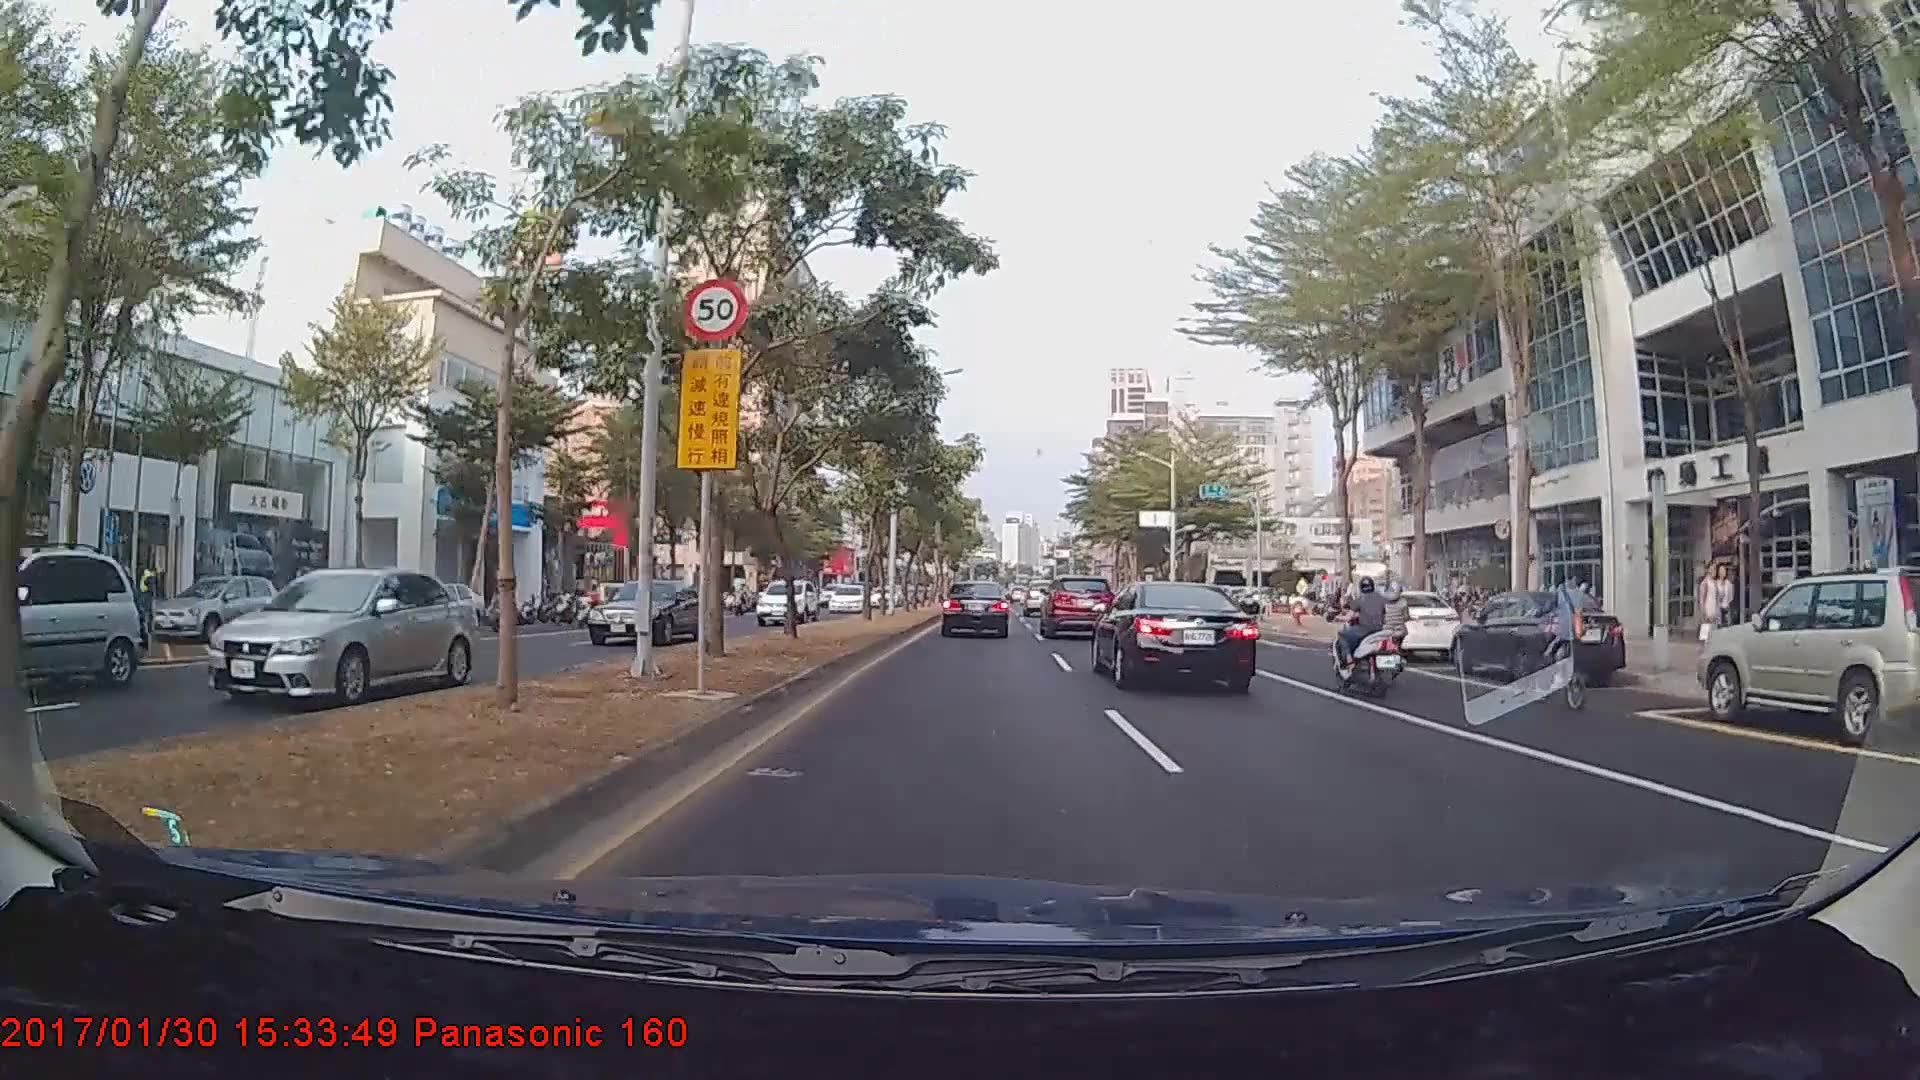pedestrian: (1700, 565, 1722, 658), (1717, 567, 1737, 659)
rider: (1525, 572, 1603, 718), (1328, 575, 1412, 704), (1371, 581, 1420, 681), (1235, 592, 1265, 633)
vehicle: (1695, 569, 1920, 745), (204, 568, 478, 709), (0, 542, 143, 697), (1096, 575, 1257, 694), (1448, 585, 1624, 687), (1337, 591, 1468, 669), (147, 573, 282, 642), (582, 576, 709, 646), (1039, 573, 1111, 636), (940, 578, 1011, 639), (753, 580, 819, 627), (1022, 581, 1061, 618), (827, 586, 865, 613)
